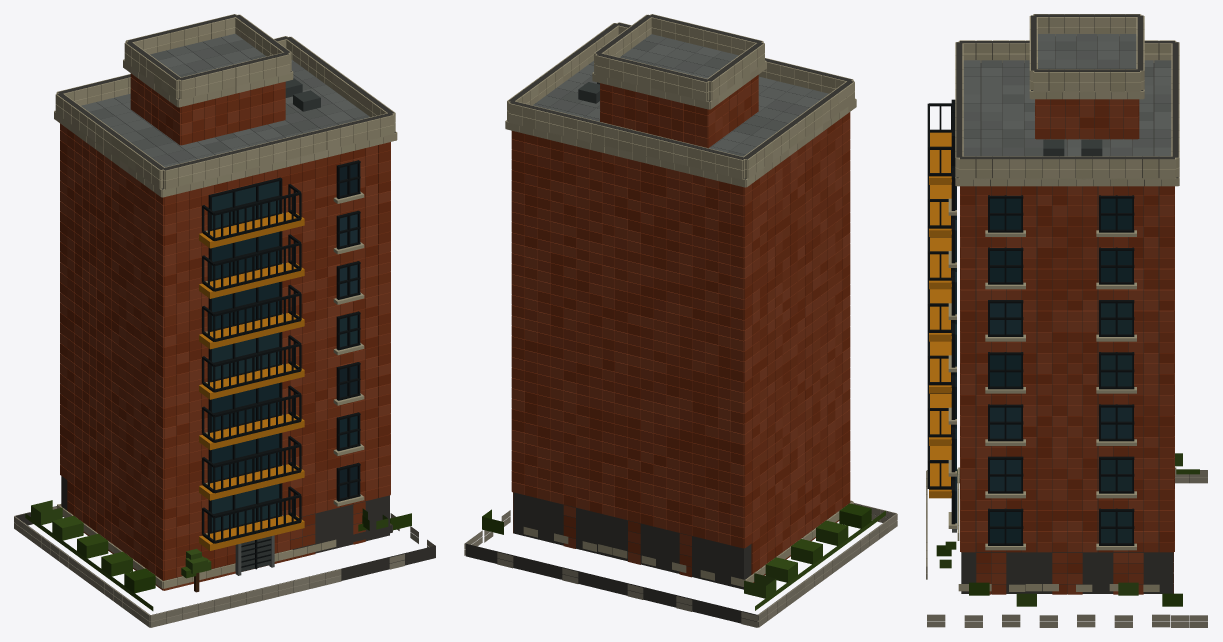
Rendered from SM_StreetFrontage_061.fbx.
3 views of the same model, side by side, from view 1: azimuth 30°, elevation 25°; view 2: azimuth 150°, elevation 25°; view 3: azimuth 270°, elevation 25° (orthographic). The views are drawn at different scales.
Parts seen in each view (by area): view 1: SM_StreetFrontage_061; view 2: SM_StreetFrontage_061; view 3: SM_StreetFrontage_061.
Part boxes in pixels (left/top/right/bottom): SM_StreetFrontage_061: left=14, top=14, right=435, bottom=627; SM_StreetFrontage_061: left=464, top=14, right=897, bottom=627; SM_StreetFrontage_061: left=926, top=14, right=1207, bottom=627.
Bounding box in the file's own units: 14 × 11.52 × 22.83.
